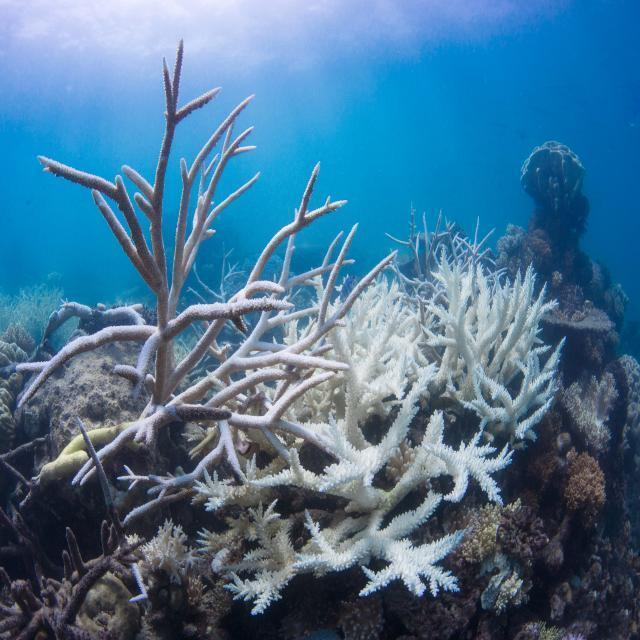Bleached Coral: (33, 49, 321, 468), (224, 249, 537, 590)
Dead Coral: (0, 516, 140, 636)
